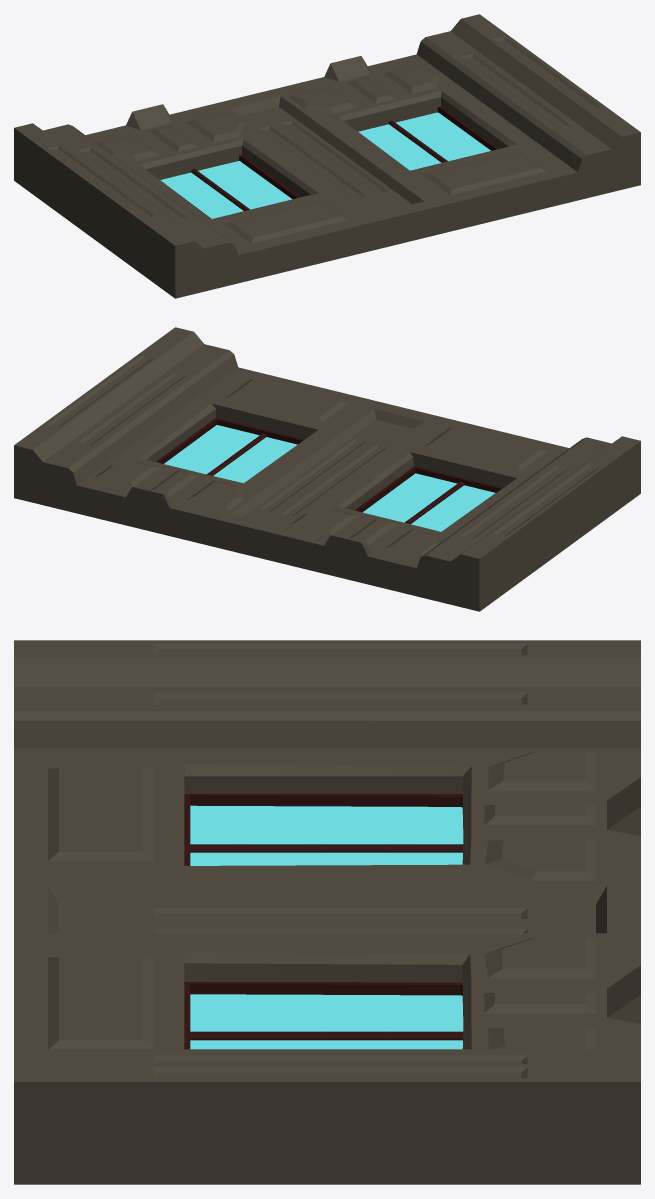
The model's file is P_F_DoubleWCadreSimple.fbx.
The picture shows the model from 3 angles, top to bottom: view 1: azimuth 30°, elevation 25°; view 2: azimuth 150°, elevation 25°; view 3: azimuth 270°, elevation 25°; orthographic projection. The views are drawn at different scales.
Parts seen in each view (by area): view 1: P_F_DoubleWCadreSimple; view 2: P_F_DoubleWCadreSimple; view 3: P_F_DoubleWCadreSimple.
Part boxes in pixels (box(x1,y1,x2,y2)): P_F_DoubleWCadreSimple: box(14, 14, 640, 298); P_F_DoubleWCadreSimple: box(14, 327, 640, 611); P_F_DoubleWCadreSimple: box(14, 640, 640, 1184).
Size of the model in its own units: 650 by 70.51 by 390.
